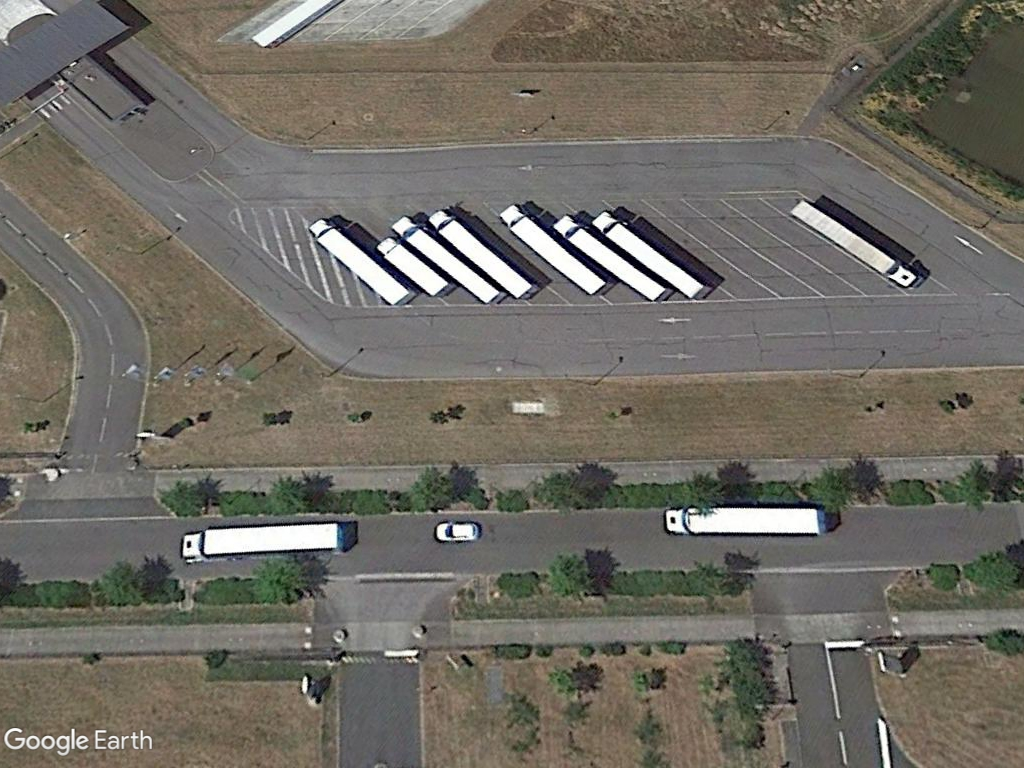car: (430, 514, 488, 545)
longvehicle: (784, 194, 922, 291), (589, 208, 721, 302), (421, 207, 539, 301), (491, 204, 608, 298), (301, 217, 418, 310), (178, 518, 351, 566), (662, 500, 832, 539)
